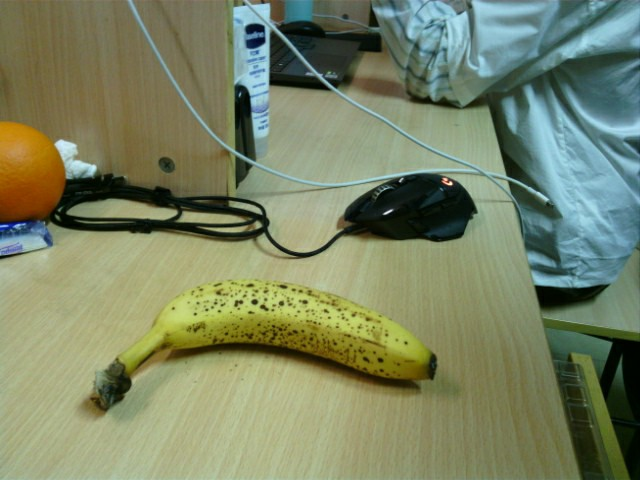normal_banana: (91, 280, 438, 414)
normal_orange: (1, 120, 68, 218)
